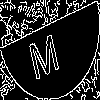M: (25, 24, 61, 81)
